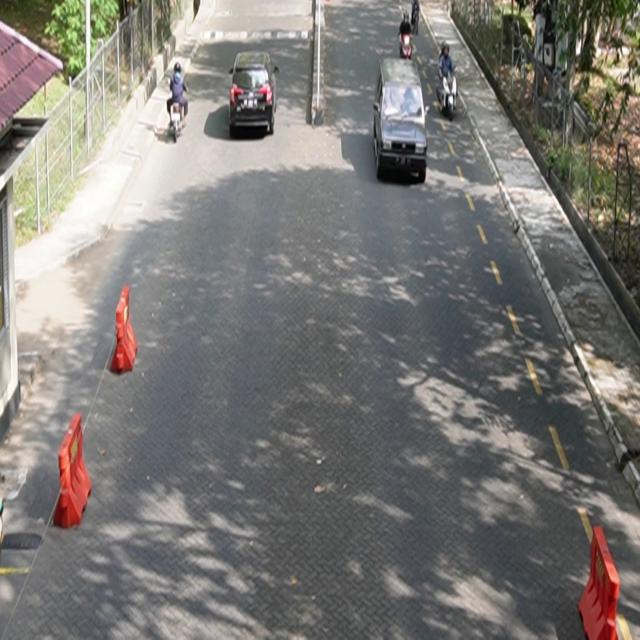car: (374, 58, 429, 184), (230, 51, 281, 137)
